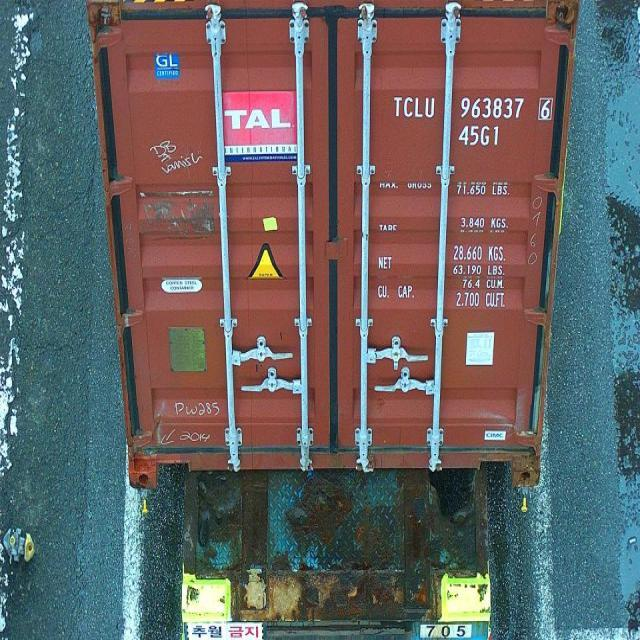ISO: (459, 125, 503, 146)
container_number: (397, 92, 556, 122)
